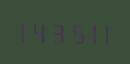five: (63, 19, 77, 44)
four: (32, 19, 46, 43)
one: (17, 19, 31, 43), (78, 20, 92, 44), (93, 20, 107, 44)
three: (48, 19, 62, 43)
